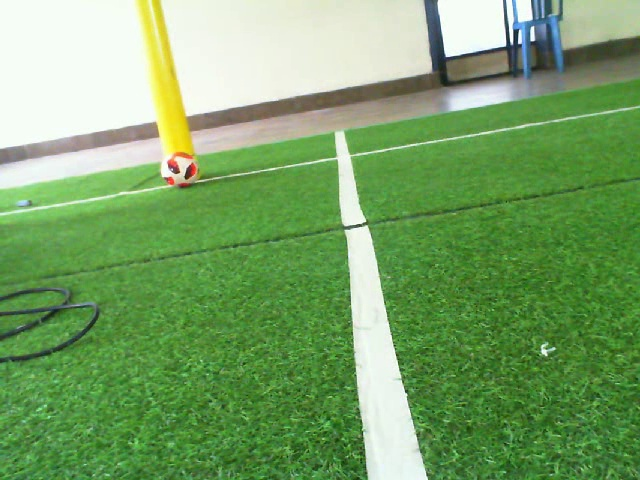ball: (159, 151, 201, 190)
